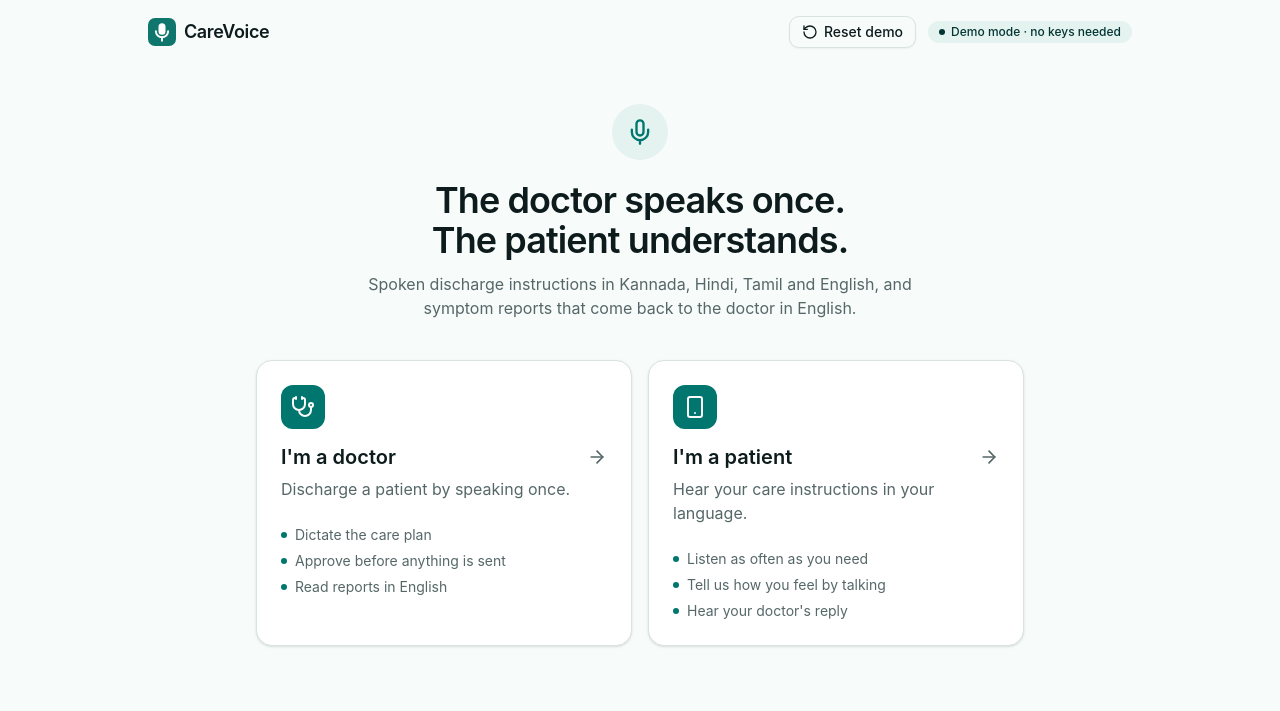
Test case: the header's Reset demo button restores the seed data after confirming
Click the button "Reset demo" at (852, 32), box [789,16,916,48]
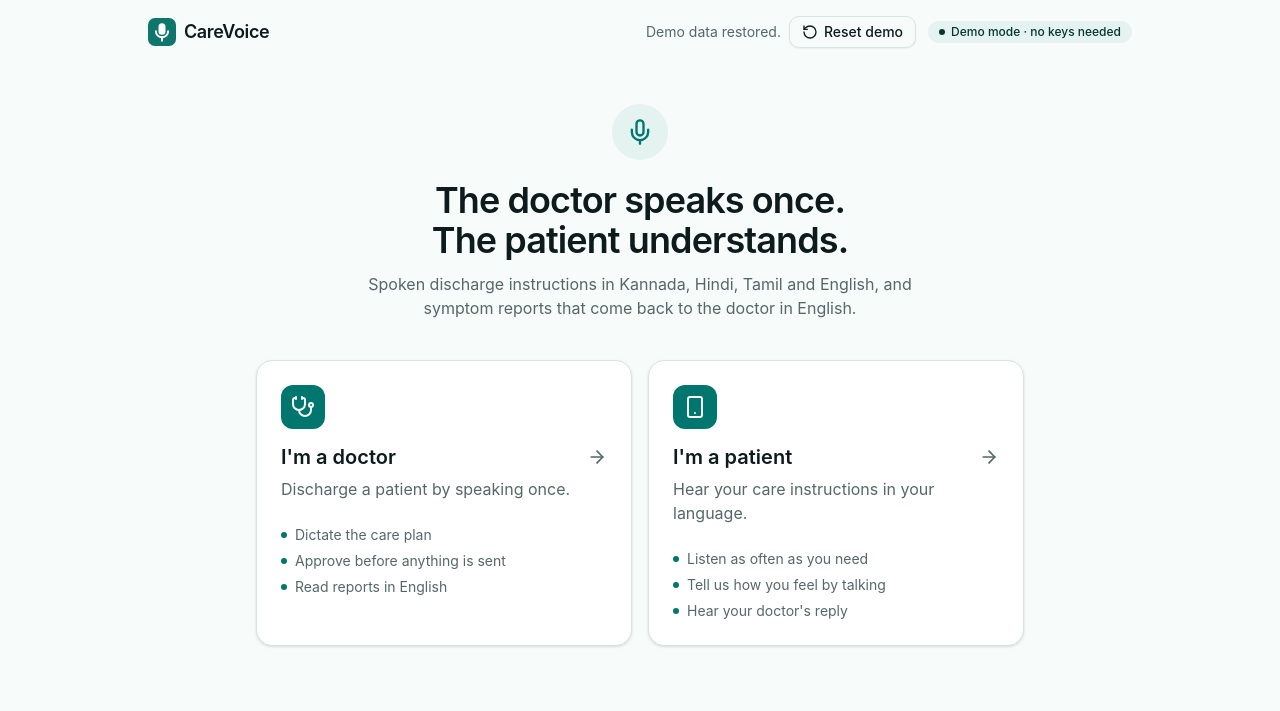
Now the text "Demo data restored." is shown, box [646,22,781,42]
